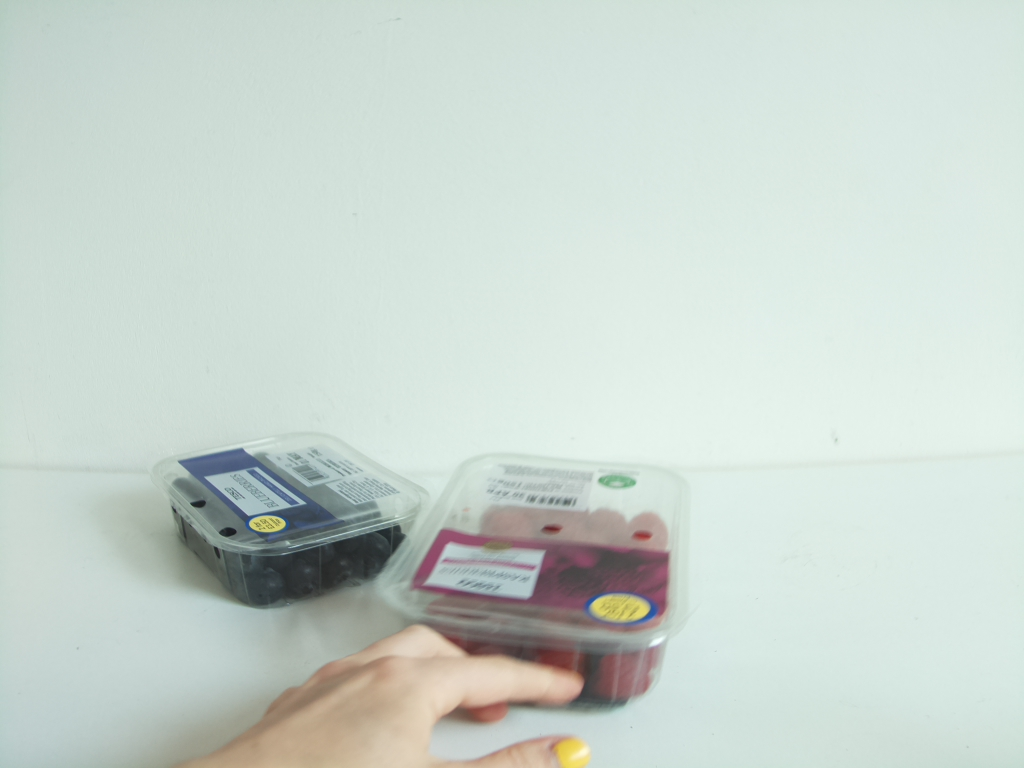soft-fruit: (391, 456, 684, 710), (156, 433, 415, 605)
